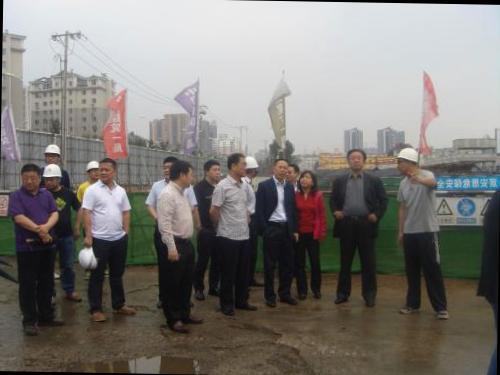no_helmet: (169, 159, 196, 192), (19, 161, 44, 192), (226, 150, 247, 180), (346, 146, 370, 172), (98, 156, 120, 182), (204, 155, 223, 184), (159, 154, 178, 182), (272, 156, 290, 183), (299, 171, 318, 190), (288, 162, 302, 185)
